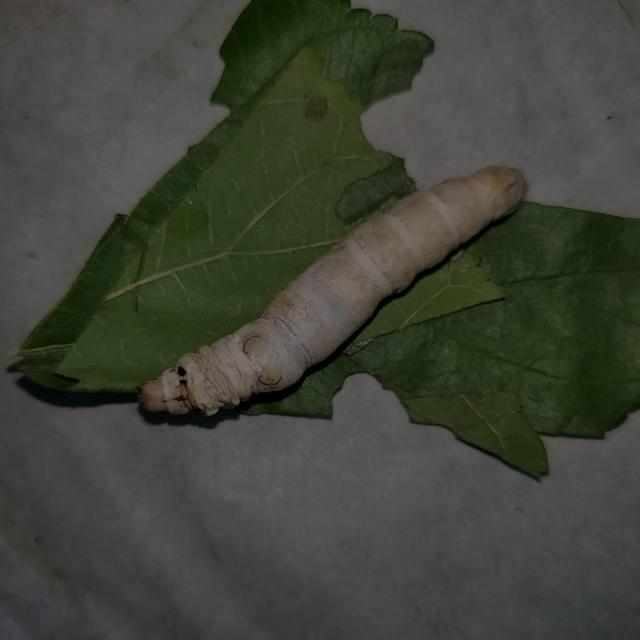Grasserie: (100, 128, 553, 476)
